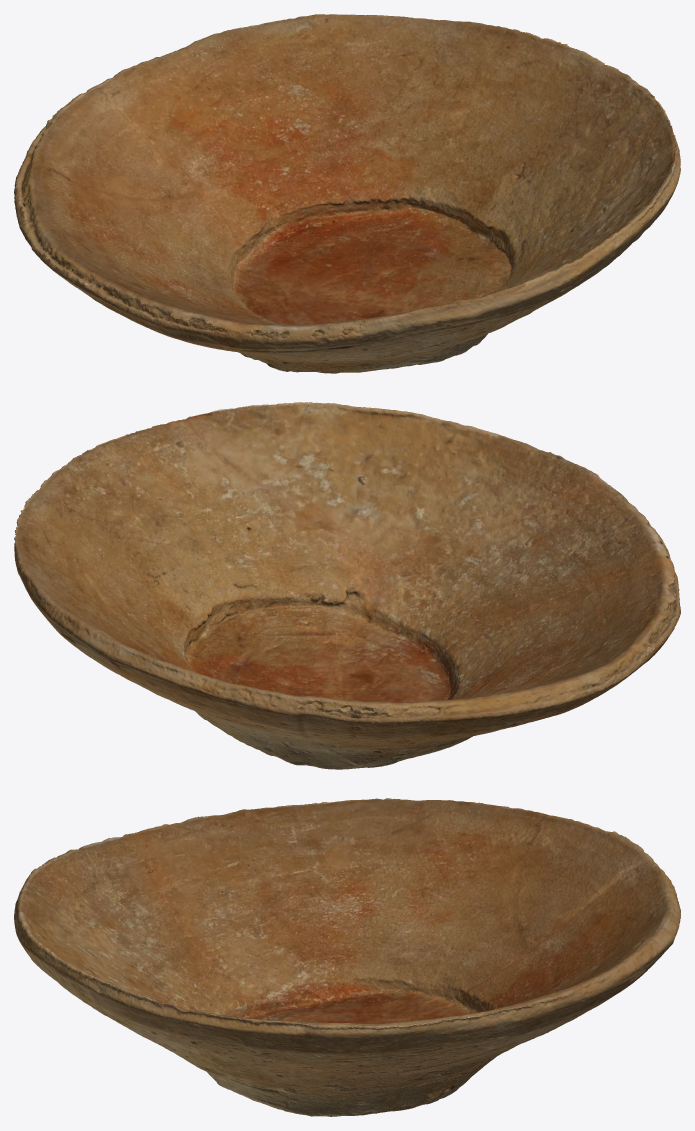
3 views of the same model, one above another, from view 1: azimuth 30°, elevation 25°; view 2: azimuth 150°, elevation 25°; view 3: azimuth 270°, elevation 25° (orthographic).
Visible parts, largest first — view 1: Mesh_0.011; view 2: Mesh_0.011; view 3: Mesh_0.011.
Part boxes in pixels (left/top/right/bottom): Mesh_0.011: left=14, top=14, right=680, bottom=373; Mesh_0.011: left=14, top=402, right=680, bottom=769; Mesh_0.011: left=14, top=798, right=680, bottom=1116.
Size of the model in its own units: 0.2342 by 0.0683 by 0.2342.
1 material, 1 textured.
